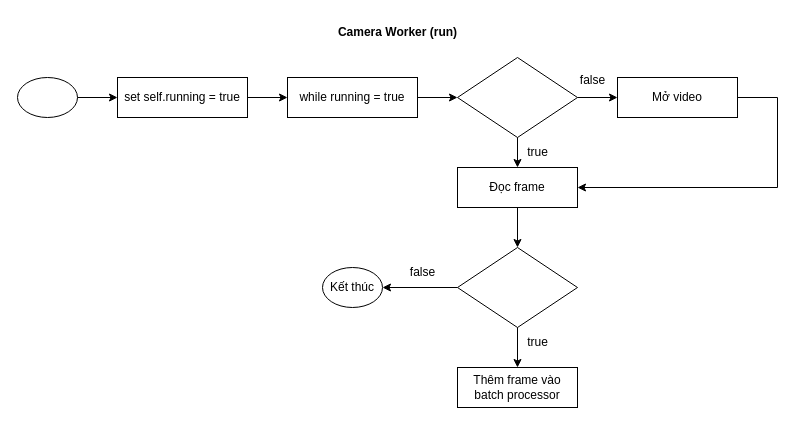
The diagram is 803 pixels wide and 425 high, and some of its shapes have lost their labels. Each missing label, with the centre of its shape:
"Bắt đầu" belongs at (x=47, y=97).
"Video đã được mở" belongs at (x=517, y=97).
"Đọc thành công" belongs at (x=517, y=287).
